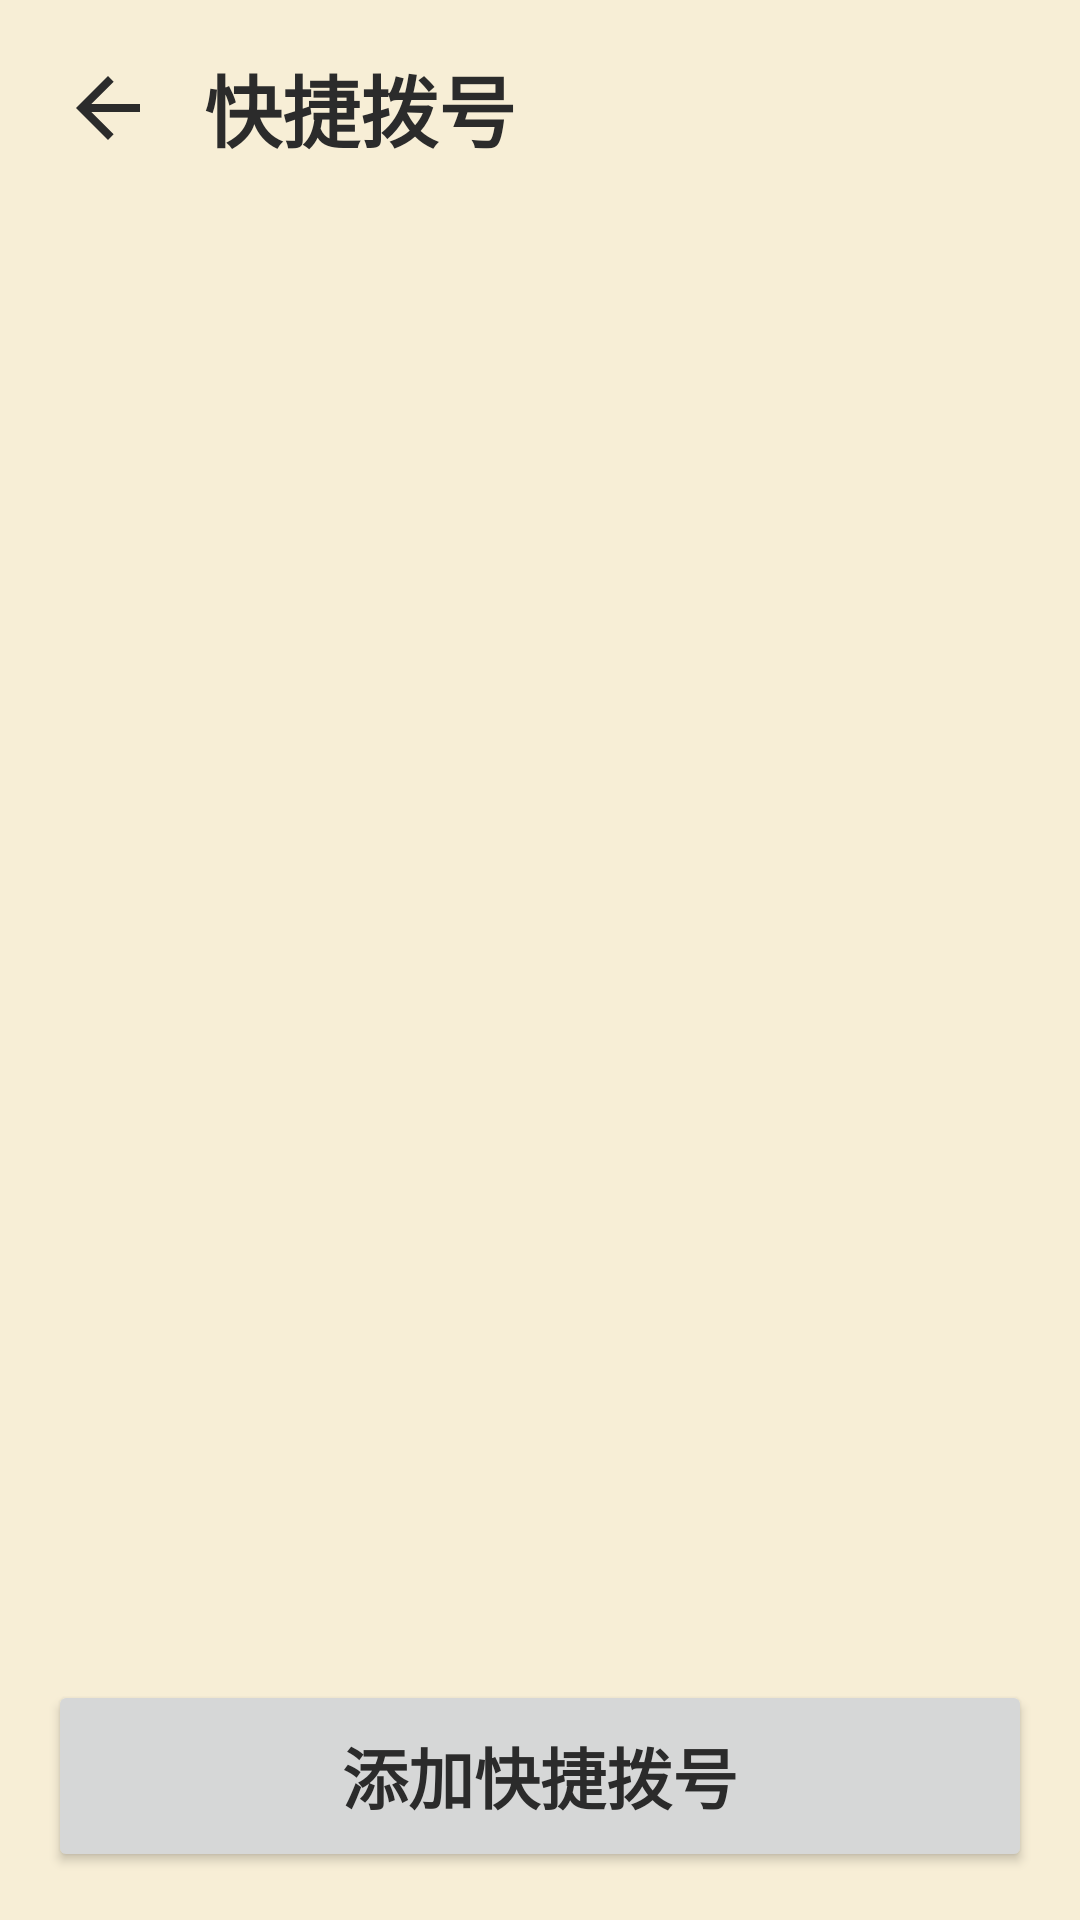

Named icons in this screenshot (1080px×1920px) and their bounding boxes, (x1, y1, x2, y2):
取消: (76, 76, 140, 140)
